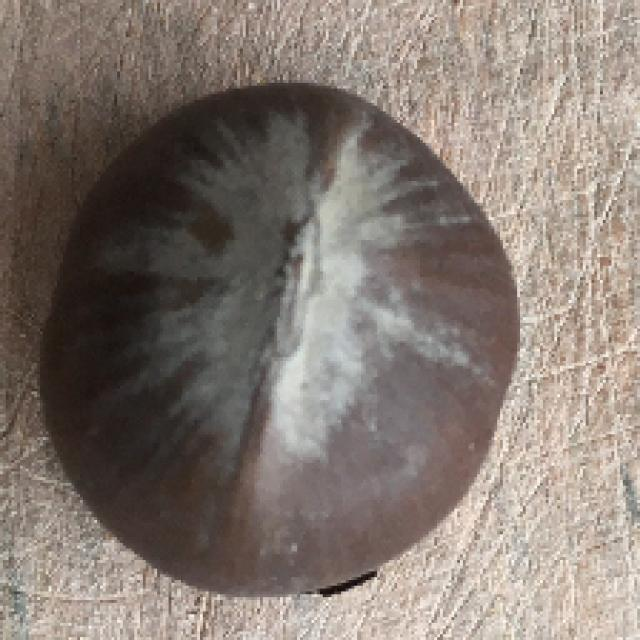damagedHazelnut: (31, 82, 523, 596)
